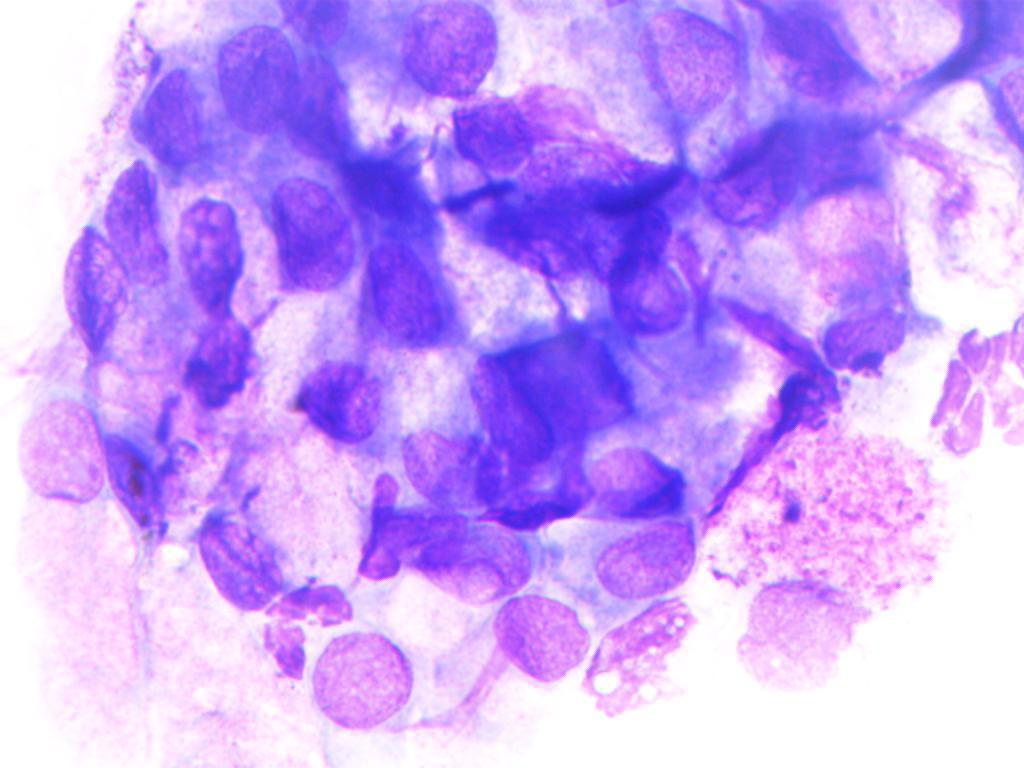artifact: (939, 304, 1024, 511), (728, 330, 859, 460), (583, 593, 706, 716), (238, 575, 368, 684)
epithelial: (725, 559, 889, 706), (267, 157, 376, 298), (207, 10, 317, 147), (260, 344, 396, 453), (615, 8, 747, 118), (174, 494, 289, 617), (485, 563, 597, 689), (354, 228, 464, 352), (159, 196, 259, 330), (587, 510, 717, 612), (48, 218, 144, 354), (97, 150, 181, 299), (549, 450, 707, 529), (593, 228, 698, 344), (431, 83, 549, 184), (414, 509, 538, 604), (761, 7, 879, 101), (129, 60, 215, 184), (805, 289, 916, 374)
goblet_cell: (758, 150, 928, 316), (445, 340, 667, 464), (10, 396, 113, 575), (386, 0, 520, 102), (311, 629, 416, 737), (374, 403, 484, 506), (463, 444, 594, 530)
